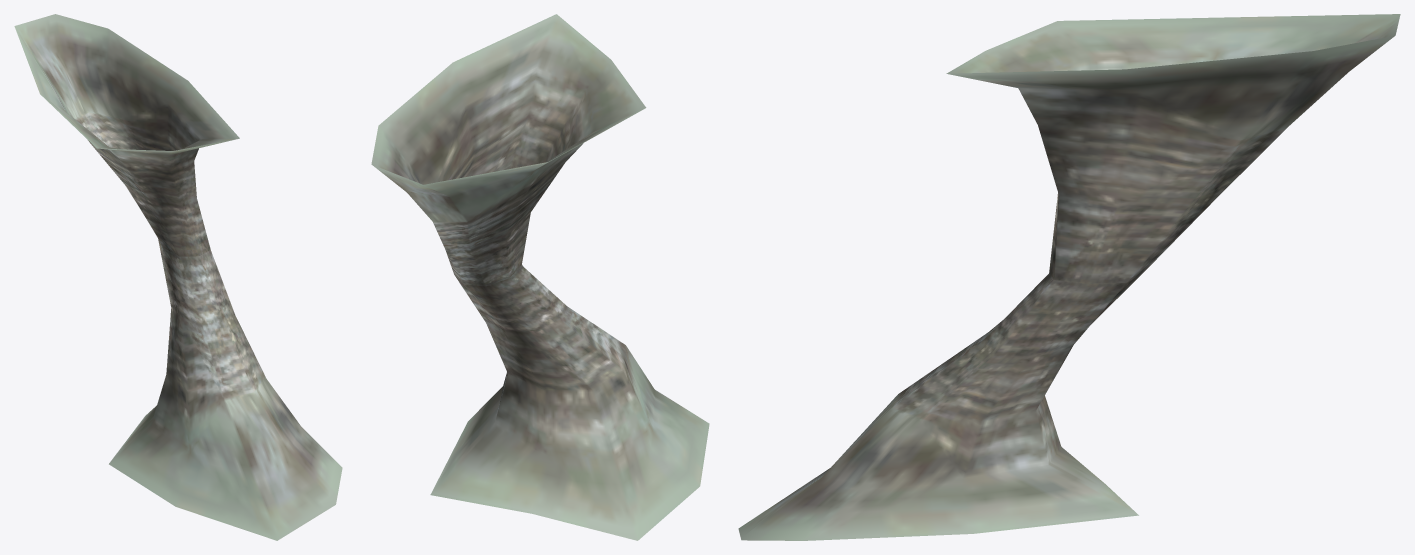
The model's file is TROLLHOLE02_PS-MAINSTALAG57.fbx.
3 renders of one model, left to right at view 1: azimuth 30°, elevation 25°; view 2: azimuth 150°, elevation 25°; view 3: azimuth 270°, elevation 25°, orthographic. The views are drawn at different scales.
Parts seen in each view (by area): view 1: TROLLHOLE02_PS-MAINSTALAG57; view 2: TROLLHOLE02_PS-MAINSTALAG57; view 3: TROLLHOLE02_PS-MAINSTALAG57.
Part boxes in pixels (x1,y1,x2,y2): TROLLHOLE02_PS-MAINSTALAG57: (14,14,342,540); TROLLHOLE02_PS-MAINSTALAG57: (371,14,709,540); TROLLHOLE02_PS-MAINSTALAG57: (738,14,1400,540).
Bounding box in the file's own units: 25353 × 54381 × 65083.
1 material, 1 textured.
